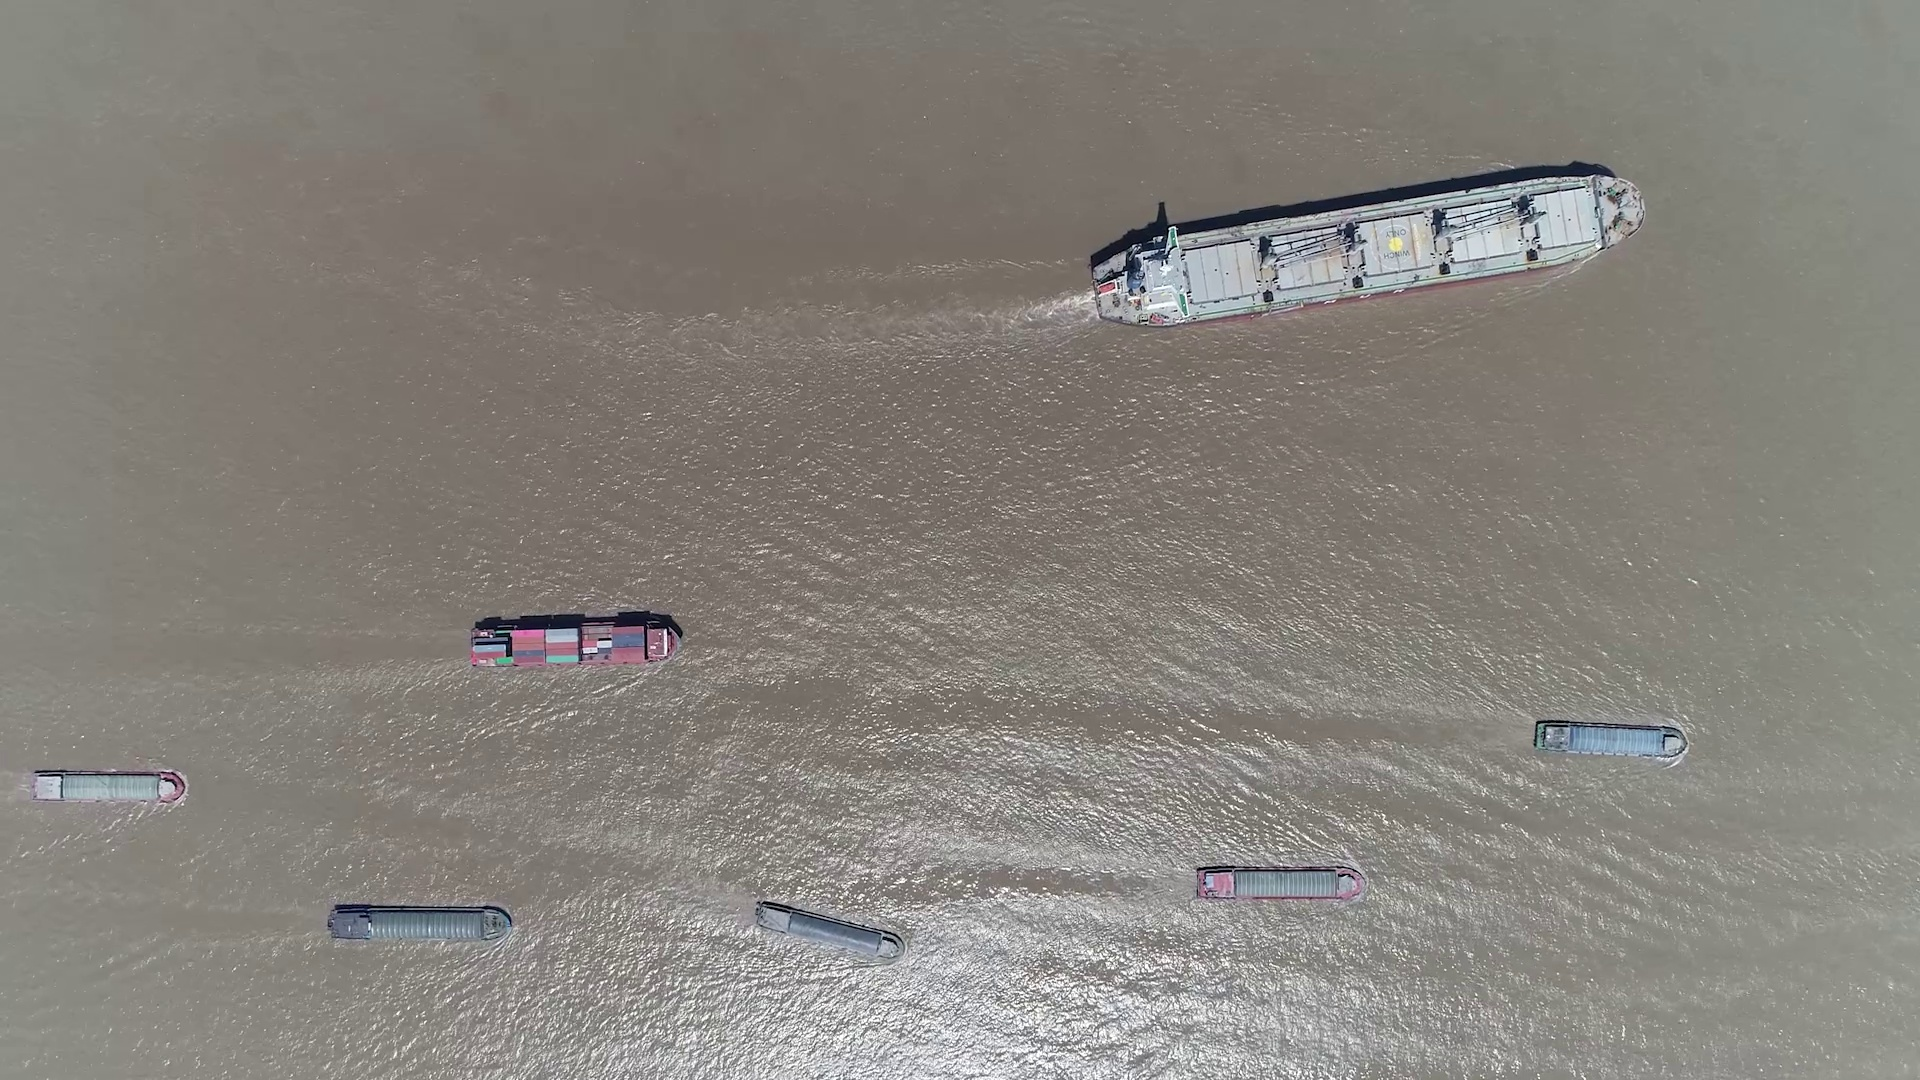ship: (1087, 175, 1648, 324), (468, 618, 680, 669), (754, 899, 901, 957), (326, 905, 513, 942), (1535, 717, 1688, 760), (1195, 866, 1364, 902), (30, 770, 185, 804)
